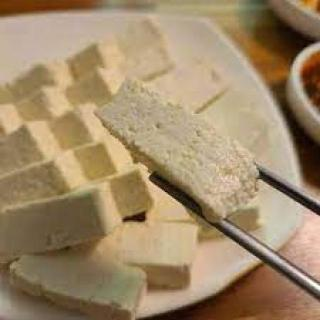Tahu: (79, 63, 276, 249)
